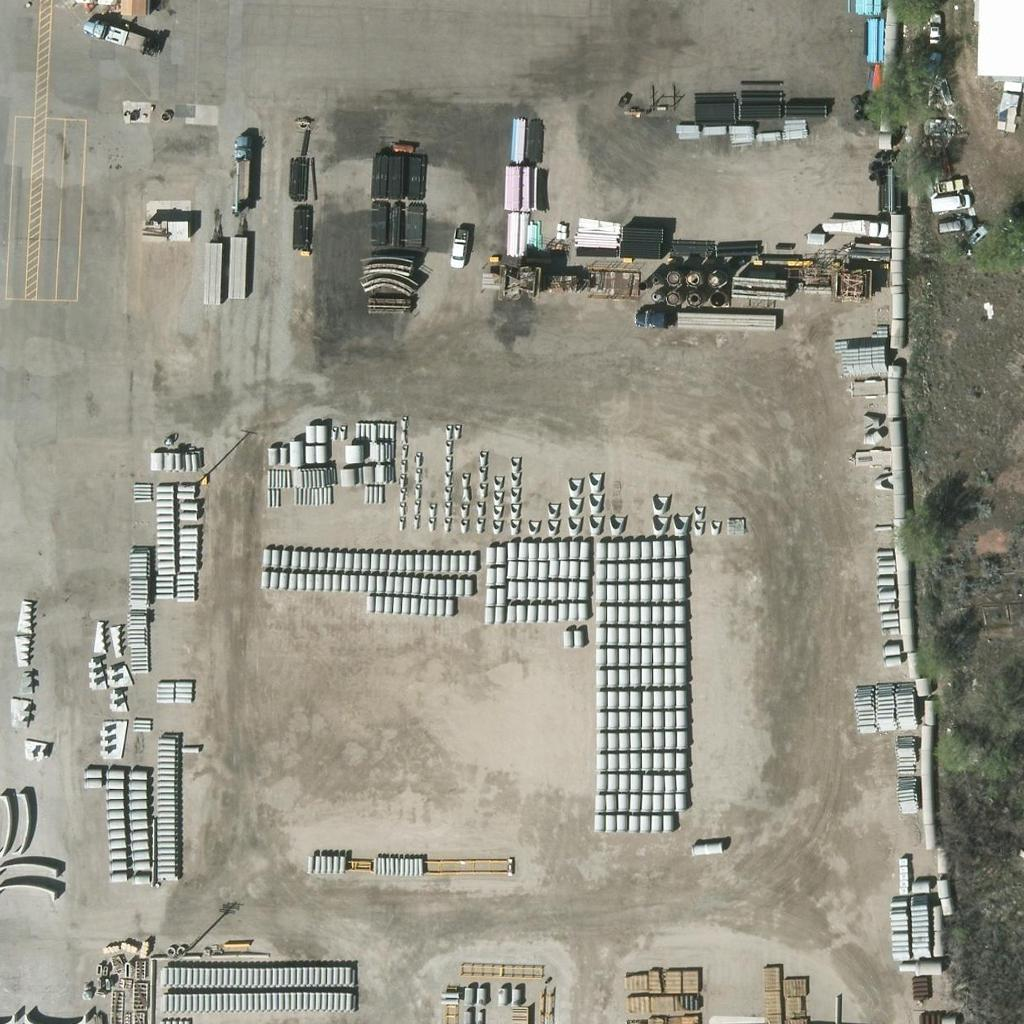car: (917, 12, 951, 46), (932, 167, 966, 201), (935, 183, 969, 217), (936, 207, 970, 241), (439, 233, 473, 267)
